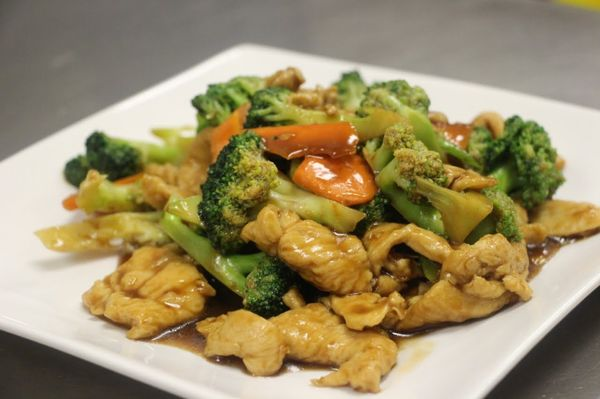curry: (159, 130, 294, 318), (160, 210, 293, 318), (197, 131, 285, 252), (467, 115, 568, 211)
